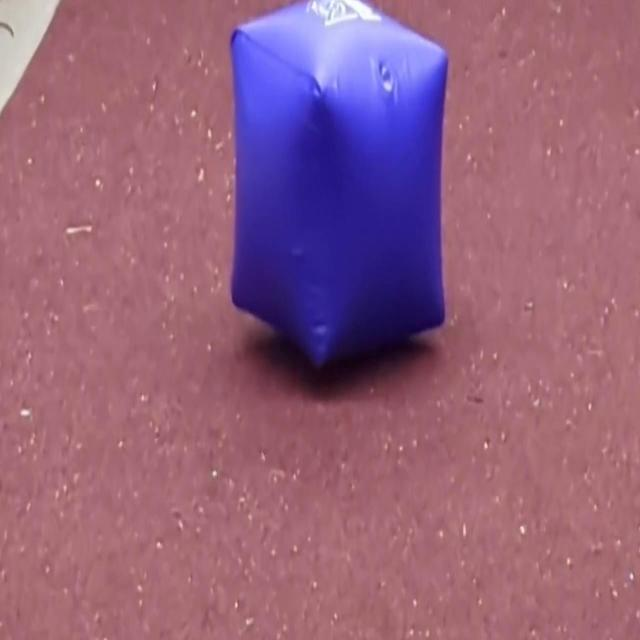frc_cube: (228, 0, 450, 380)
